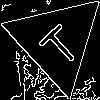T: (31, 16, 84, 70)
